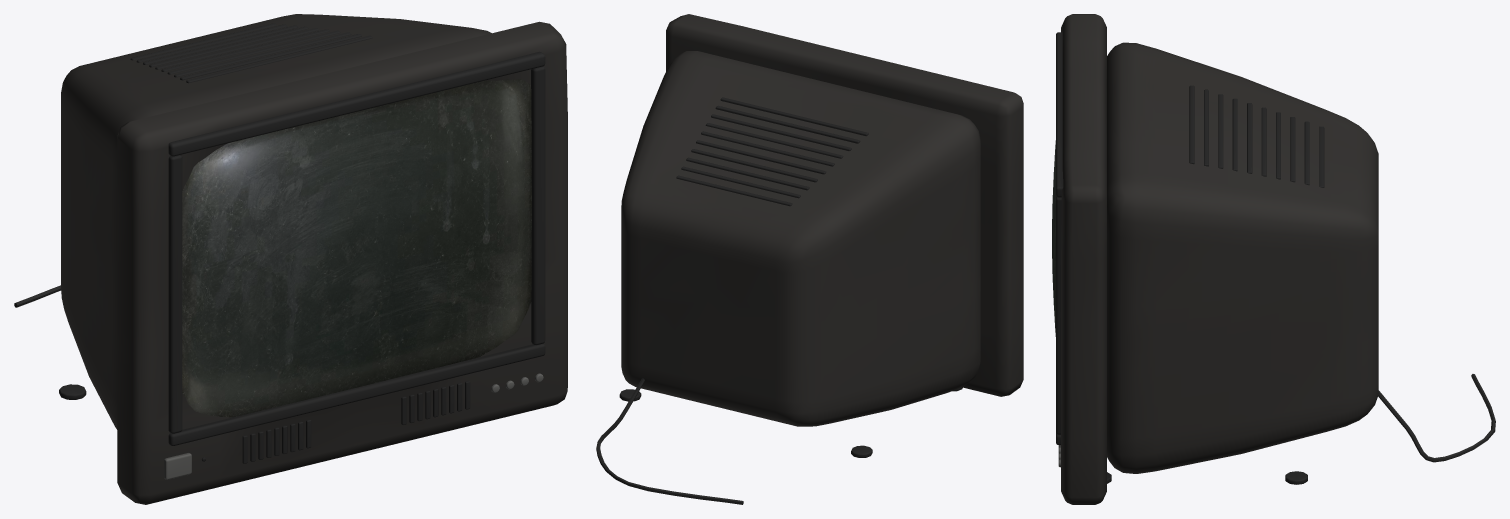
The model's file is tv_crt.glb.
3 renders of one model, left to right at view 1: azimuth 30°, elevation 25°; view 2: azimuth 150°, elevation 25°; view 3: azimuth 270°, elevation 25°, orthographic. The views are drawn at different scales.
Parts seen in each view (by area): view 1: tv_crt; view 2: tv_crt; view 3: tv_crt.
Boxes of the visible parts, x1,y1,x2,y2 form: tv_crt: [14, 14, 567, 504]; tv_crt: [596, 14, 1023, 504]; tv_crt: [1052, 14, 1495, 504].
Size of the model in its own units: 0.6582 by 0.5405 by 0.6785.
6 materials, 1 textured.
